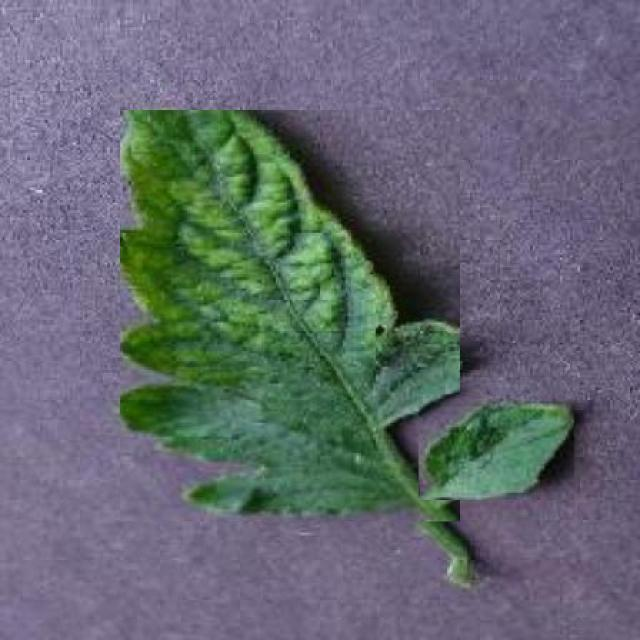Mosaic Virus: (120, 110, 460, 521), (419, 394, 574, 500)
